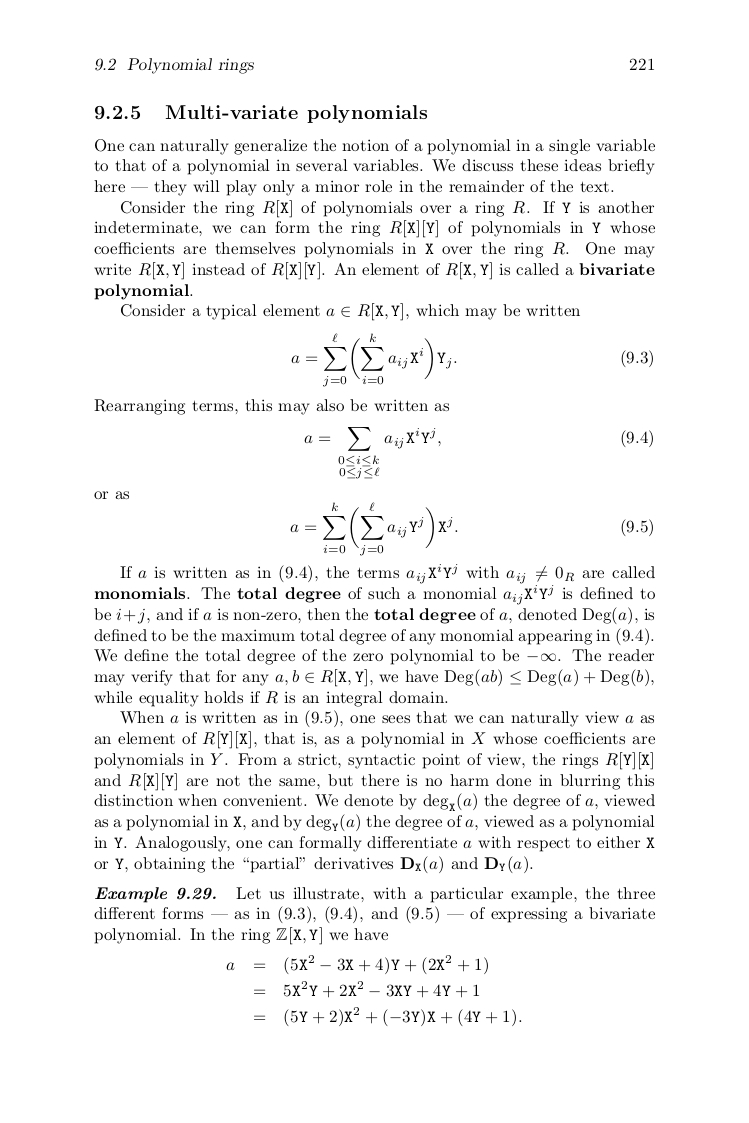formula: (291, 332, 652, 387), (290, 502, 652, 555), (304, 427, 652, 478), (254, 1005, 521, 1027), (226, 954, 487, 975), (254, 980, 479, 998)
